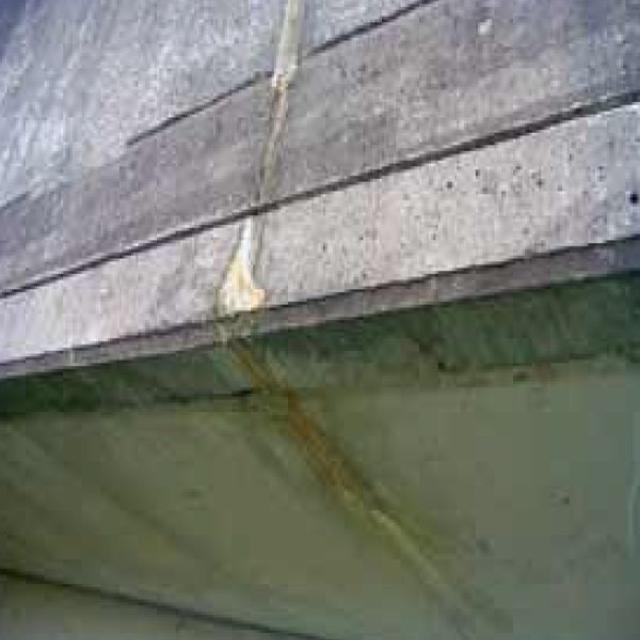freelime: (198, 214, 318, 329)
